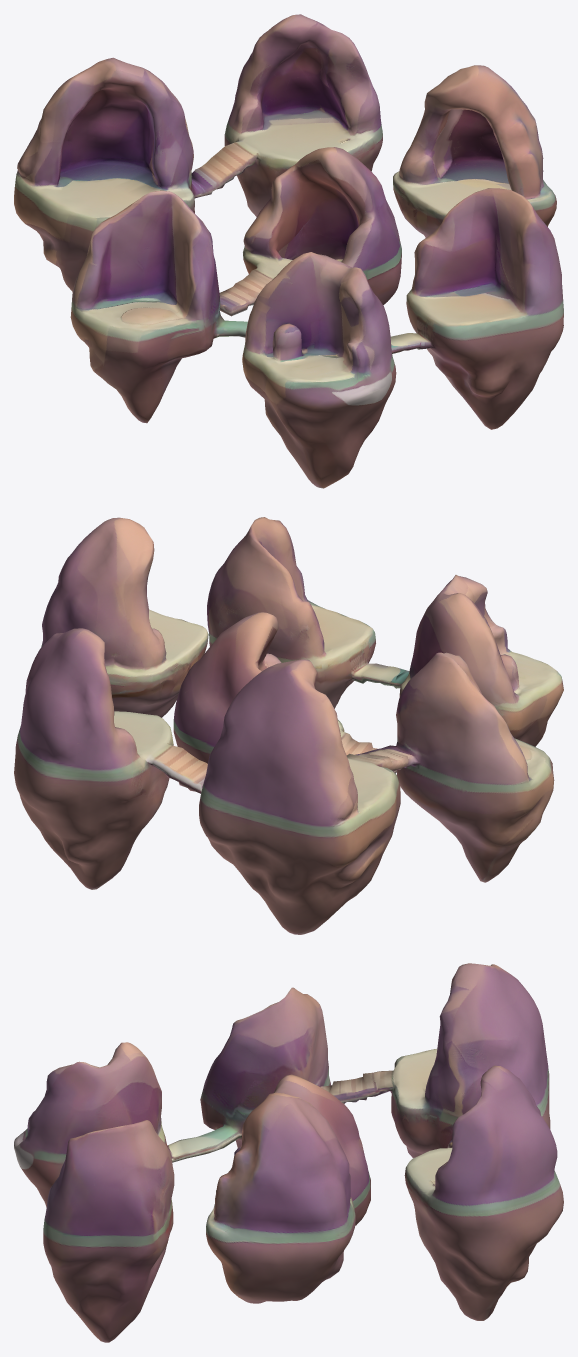
The model's file is Habitat_9.glb.
3 renders of one model, top to bottom at view 1: azimuth 30°, elevation 25°; view 2: azimuth 150°, elevation 25°; view 3: azimuth 270°, elevation 25°, orthographic. The views are drawn at different scales.
Bounding box in the file's own units: 1.84 × 1.12 × 1.91.
1 material, 1 textured.
